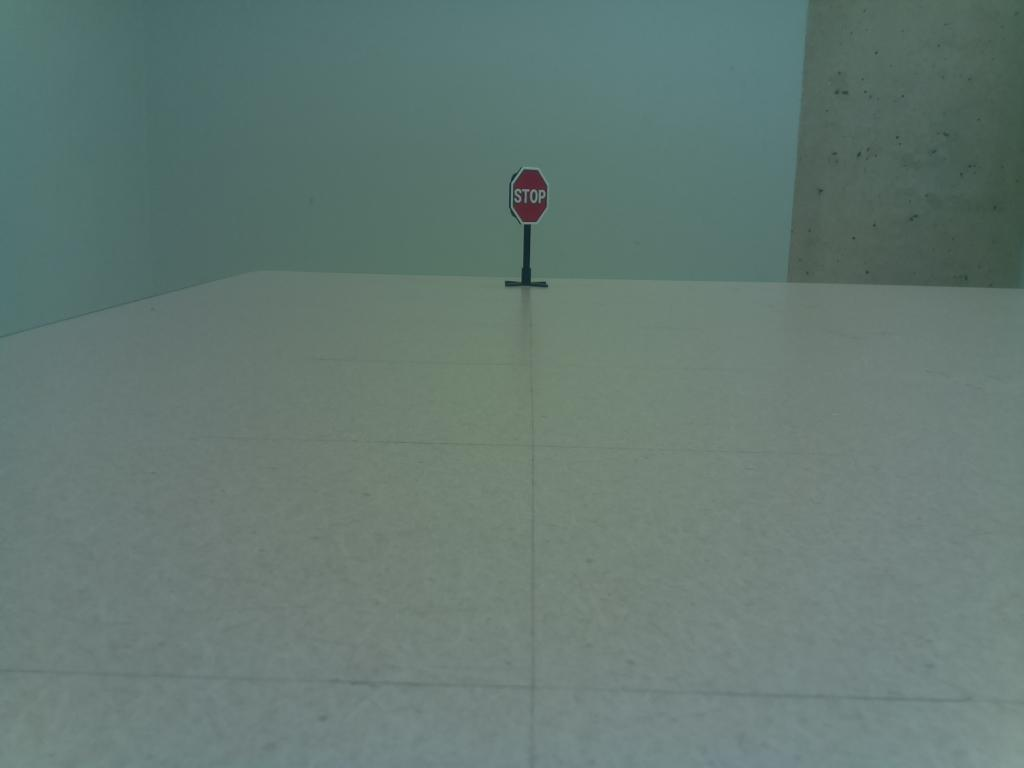sign_stop: (504, 164, 557, 230)
